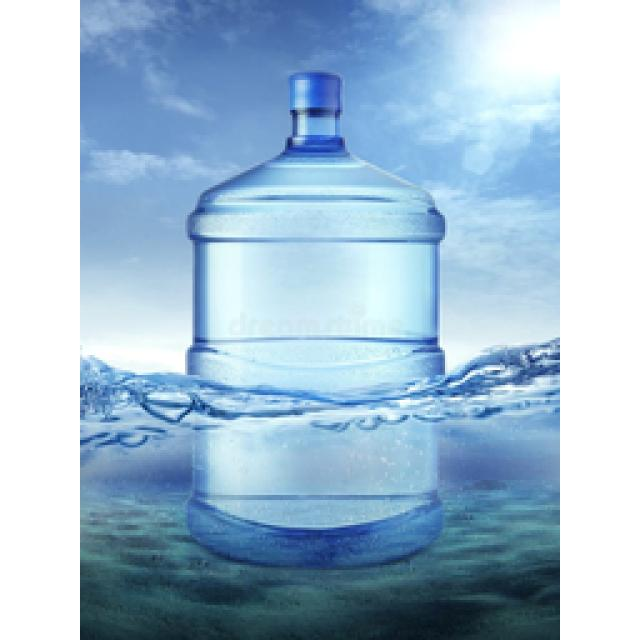plastic: (183, 70, 446, 567)
